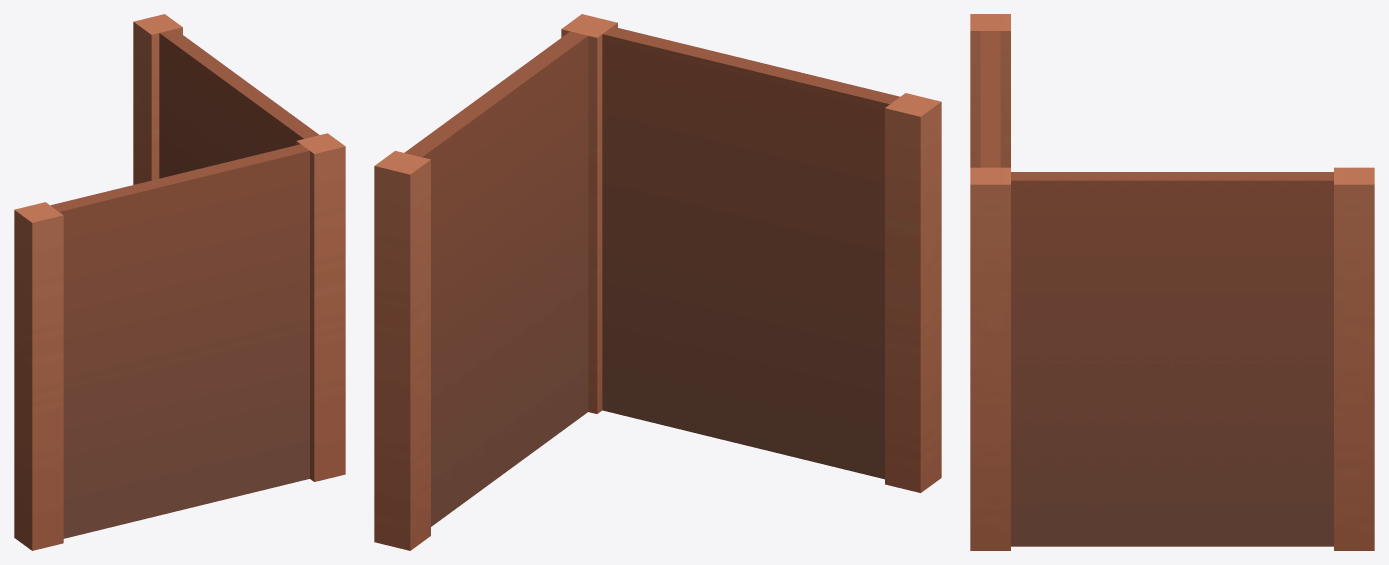
The model's file is wallWoodCorner.fbx.
3 renders of one model, left to right at view 1: azimuth 30°, elevation 25°; view 2: azimuth 150°, elevation 25°; view 3: azimuth 270°, elevation 25°, orthographic. The views are drawn at different scales.
Parts seen in each view (by area): view 1: wallWoodCorner; view 2: wallWoodCorner; view 3: wallWoodCorner.
Part boxes in pixels (x1,y1,x2,y2): wallWoodCorner: [14, 14, 345, 550]; wallWoodCorner: [374, 14, 941, 550]; wallWoodCorner: [970, 14, 1374, 550].
Size of the model in its own units: 1 by 1 by 1.
